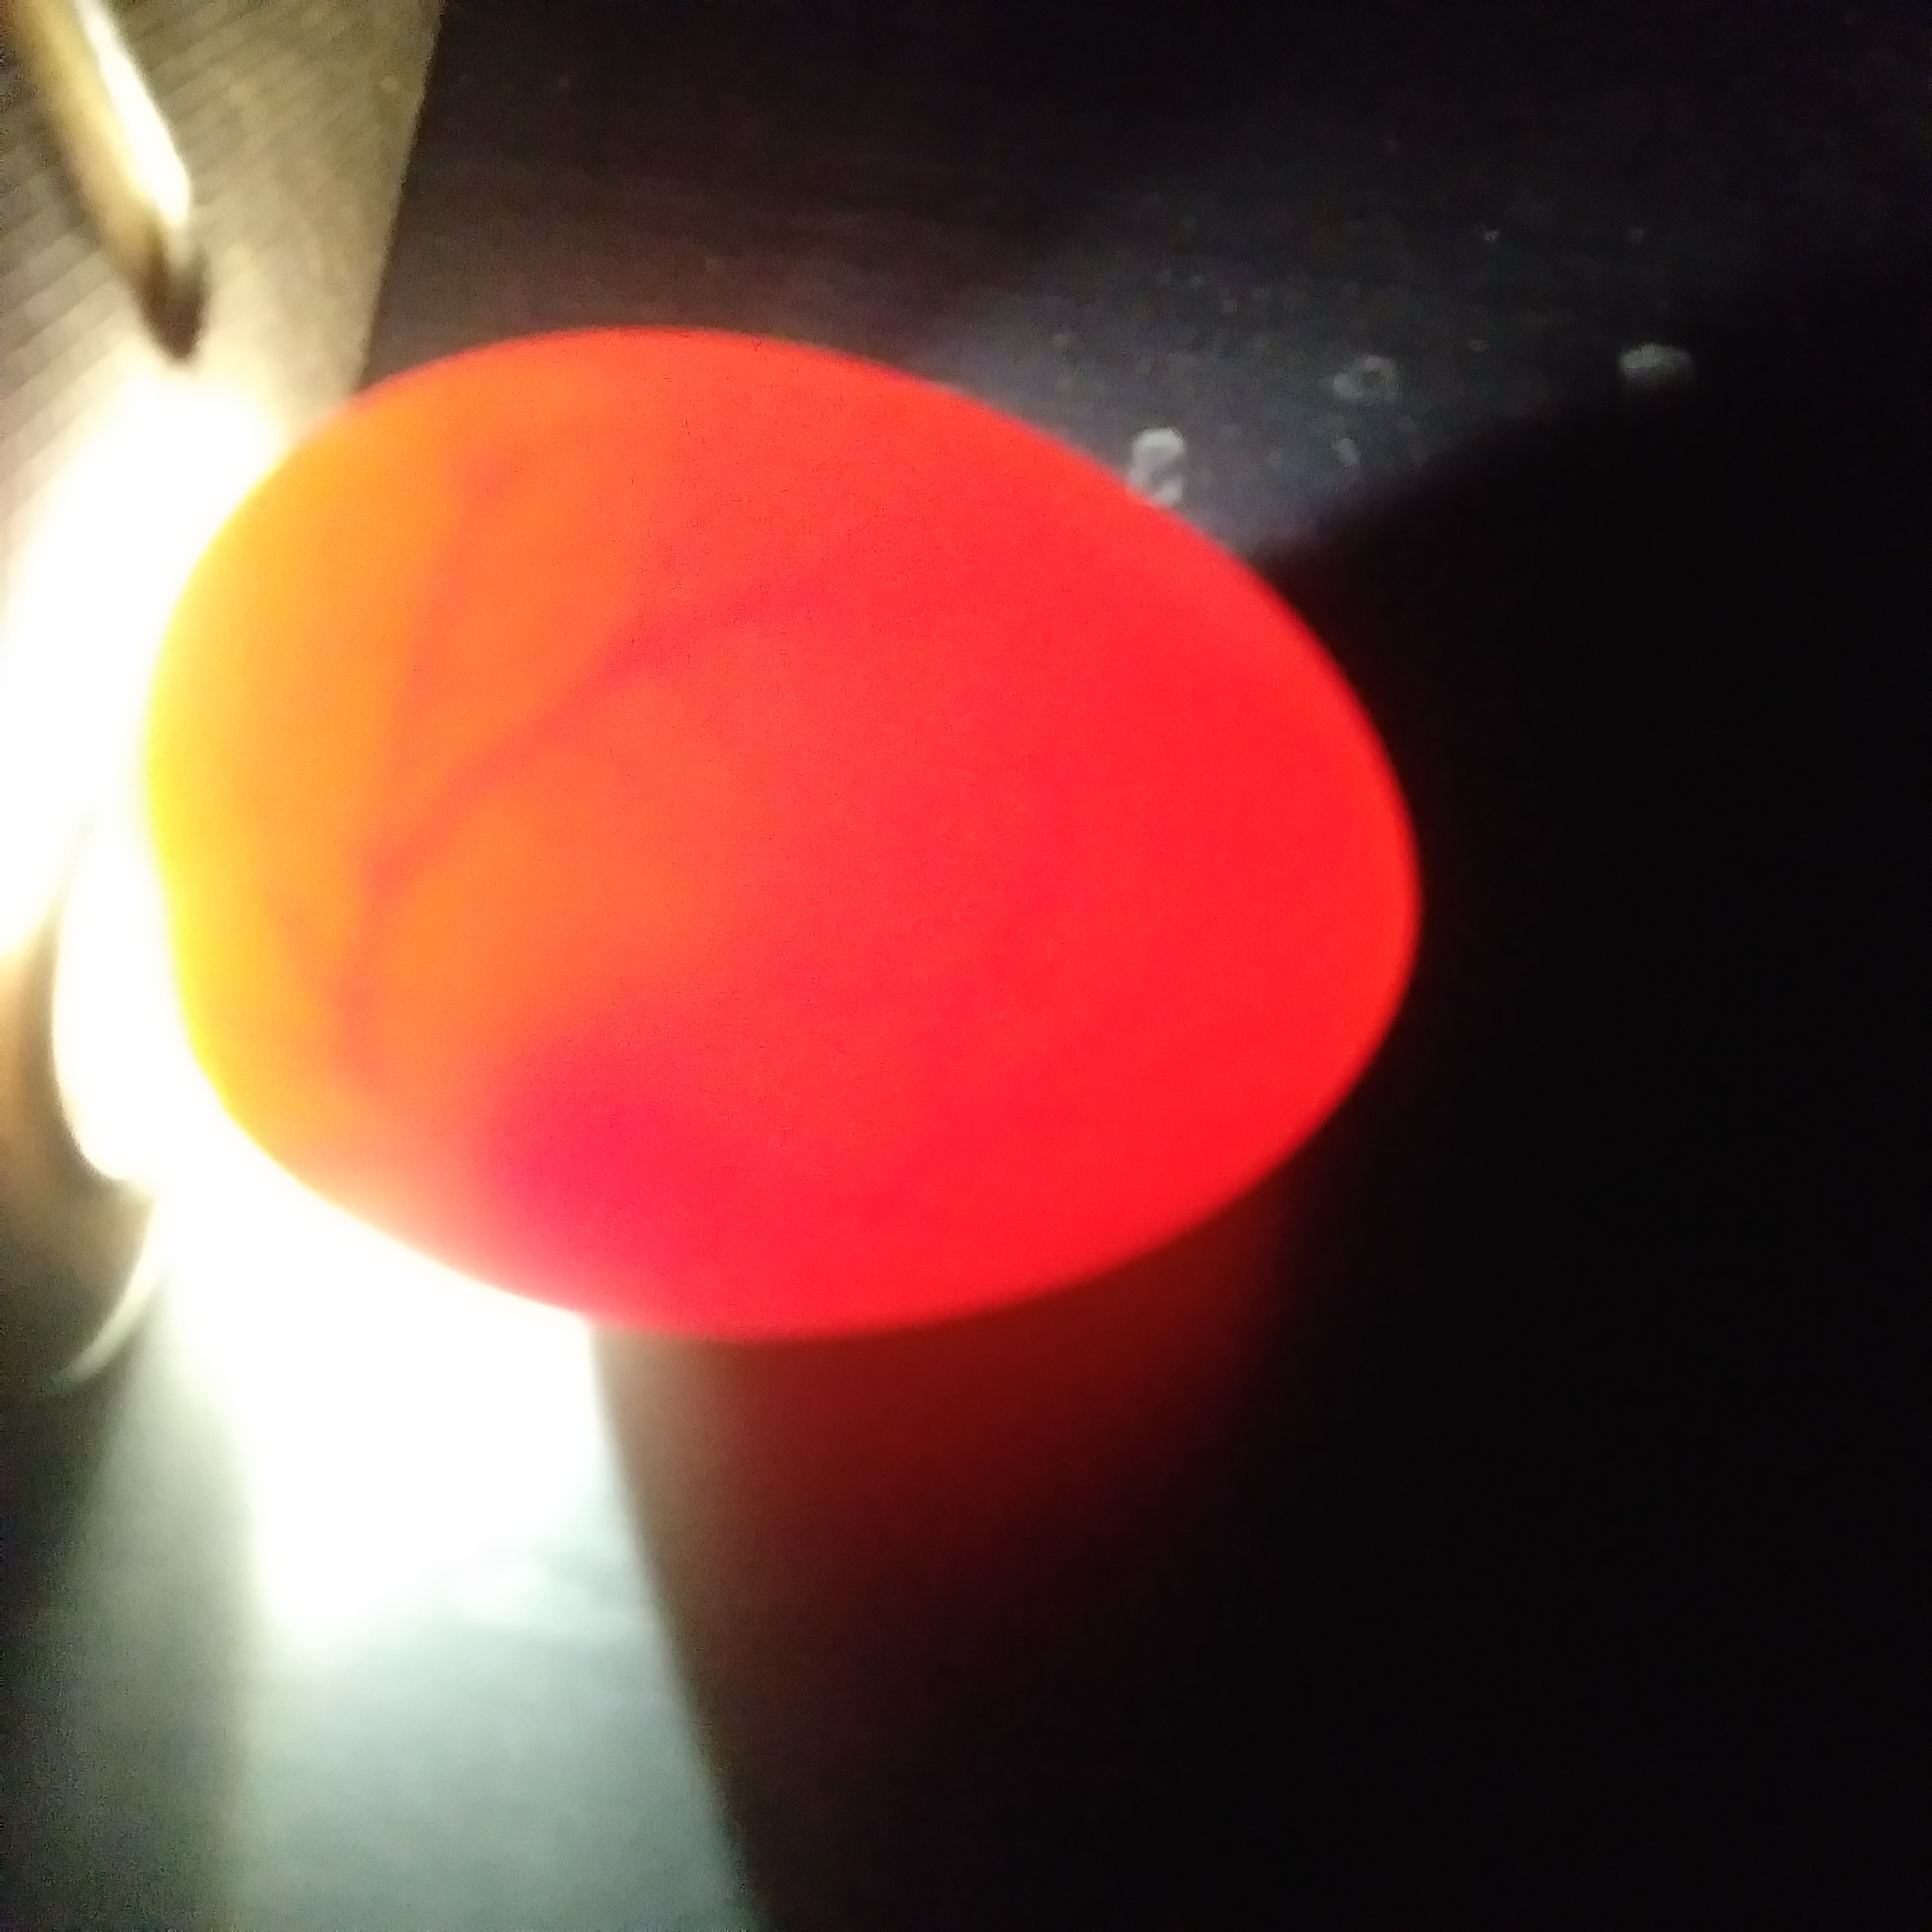bloodcell: (329, 485, 851, 947)
